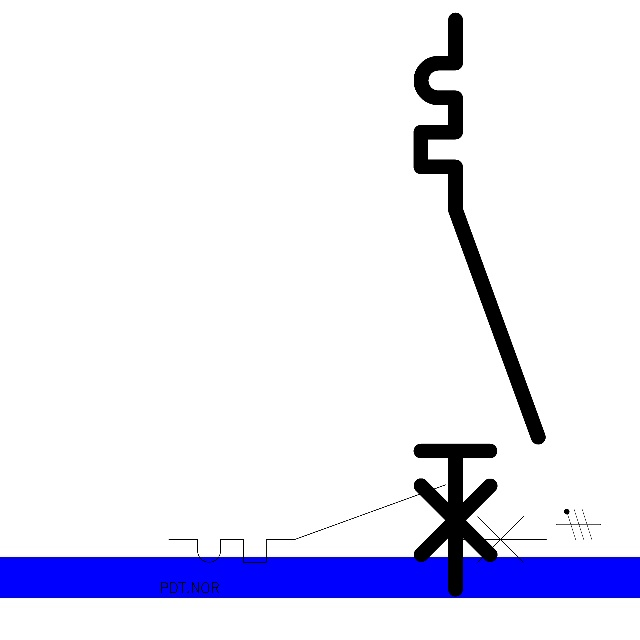interruptor_termomagnetico: (406, 5, 552, 604), (159, 475, 556, 572)
